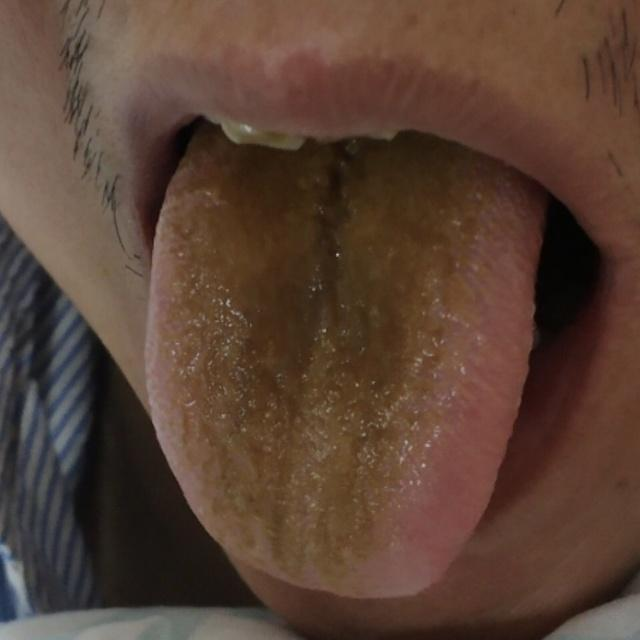huangtaishe: (146, 137, 540, 600)
